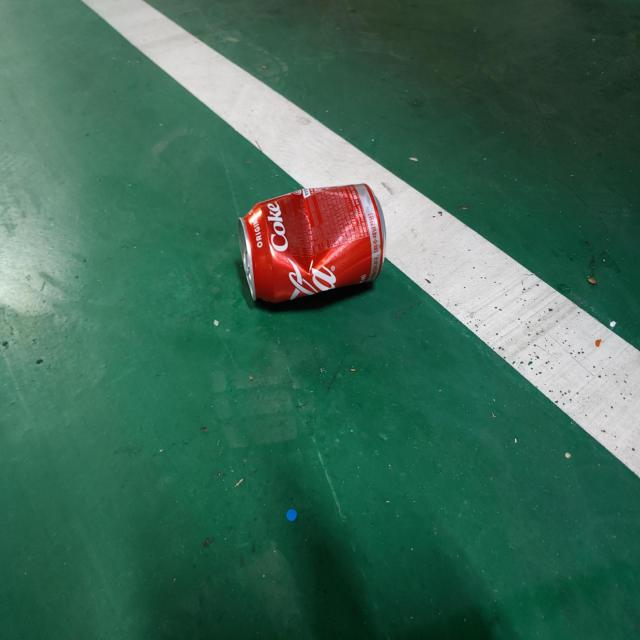can: (238, 184, 386, 302)
